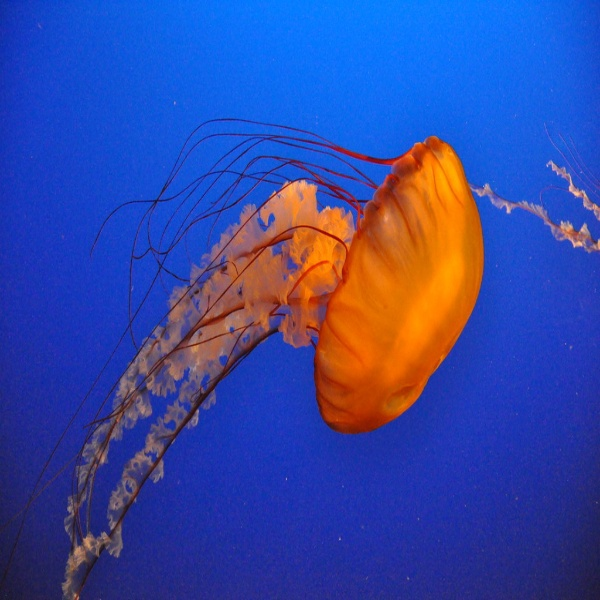Jellyfish: (0, 116, 485, 599)
